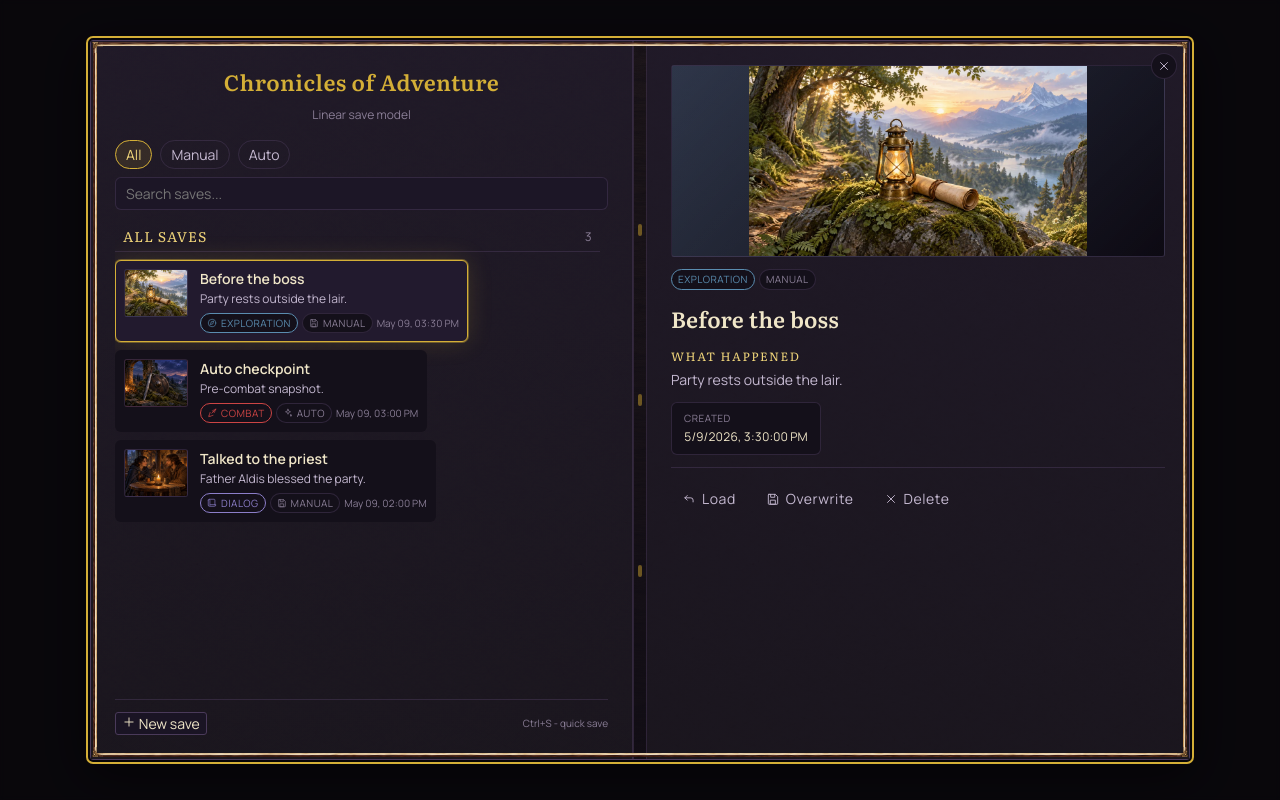
Test case: SavesScreen › selecting a save row populates the right-page detail
Click the text "Talked to the priest": (264, 458) [200,449,328,468]
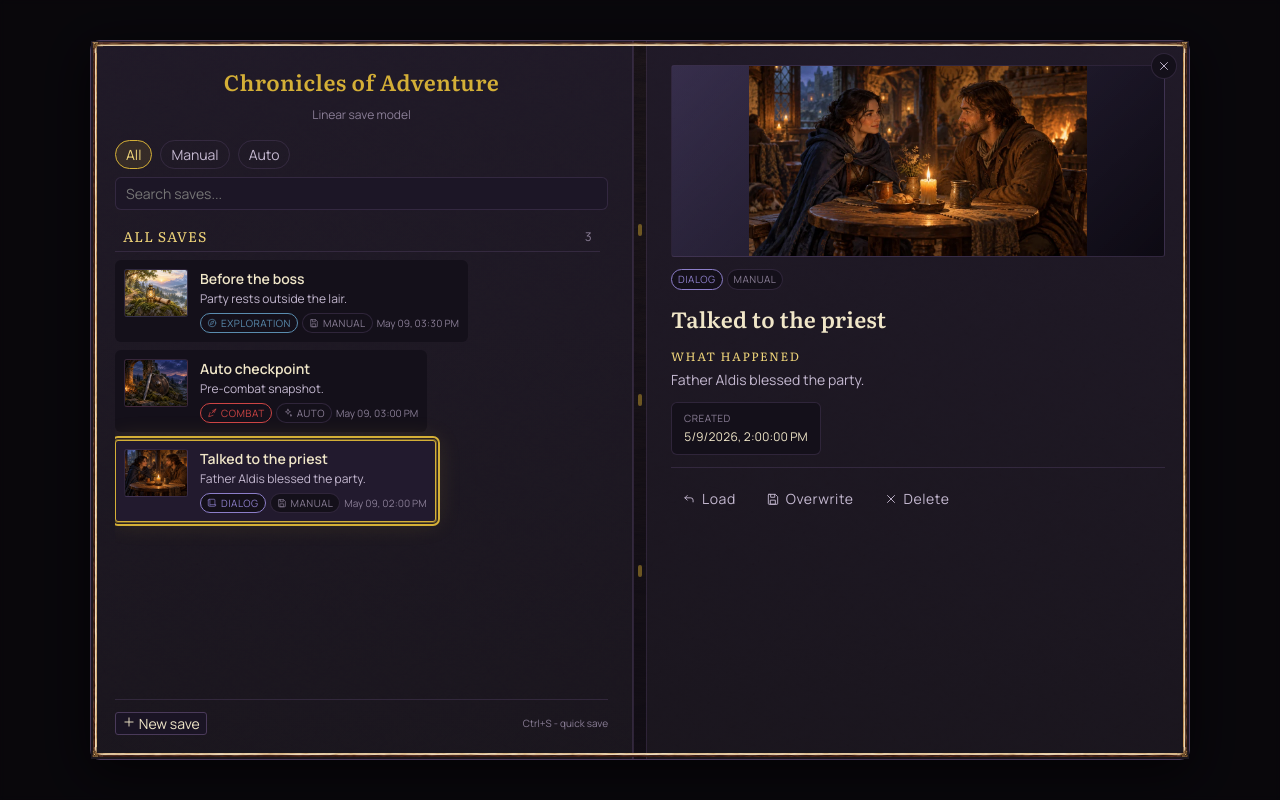
Now the heading "Talked to the priest" is shown, box [671,302,886,335]
